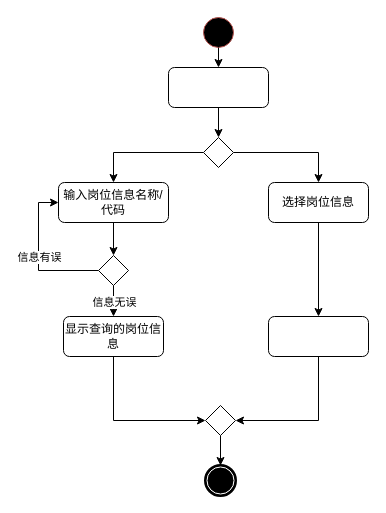
This 386x513 diagram has some shape labels left out. Here are the shapes that lost their labels. From the top down, the centre of each, then its label:
At point 218,87: "进入岗位信息管理界面".
At point 318,336: "删除岗位信息".
